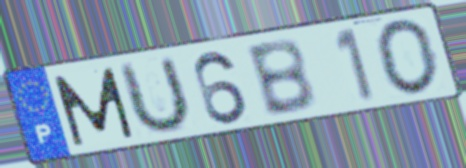1: (333, 25, 378, 104)
6: (190, 47, 249, 127)
B: (242, 36, 319, 120)
M: (49, 65, 138, 149)
O: (373, 15, 442, 98)
U: (117, 53, 194, 139)
